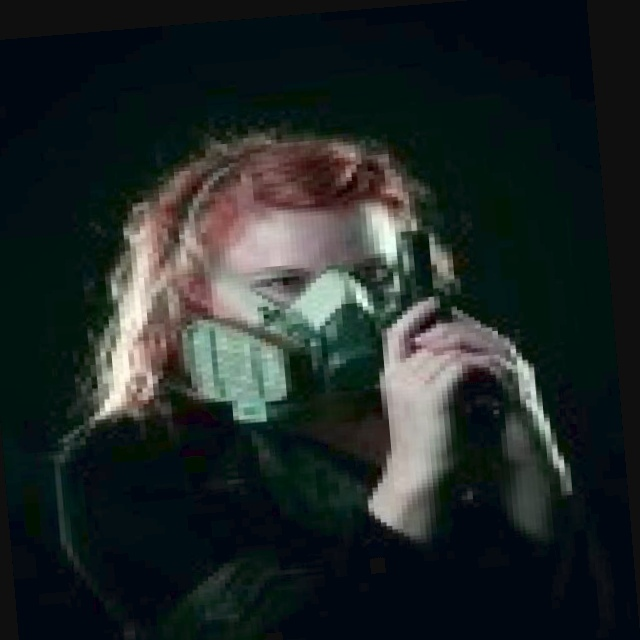gun: (350, 206, 540, 460)
